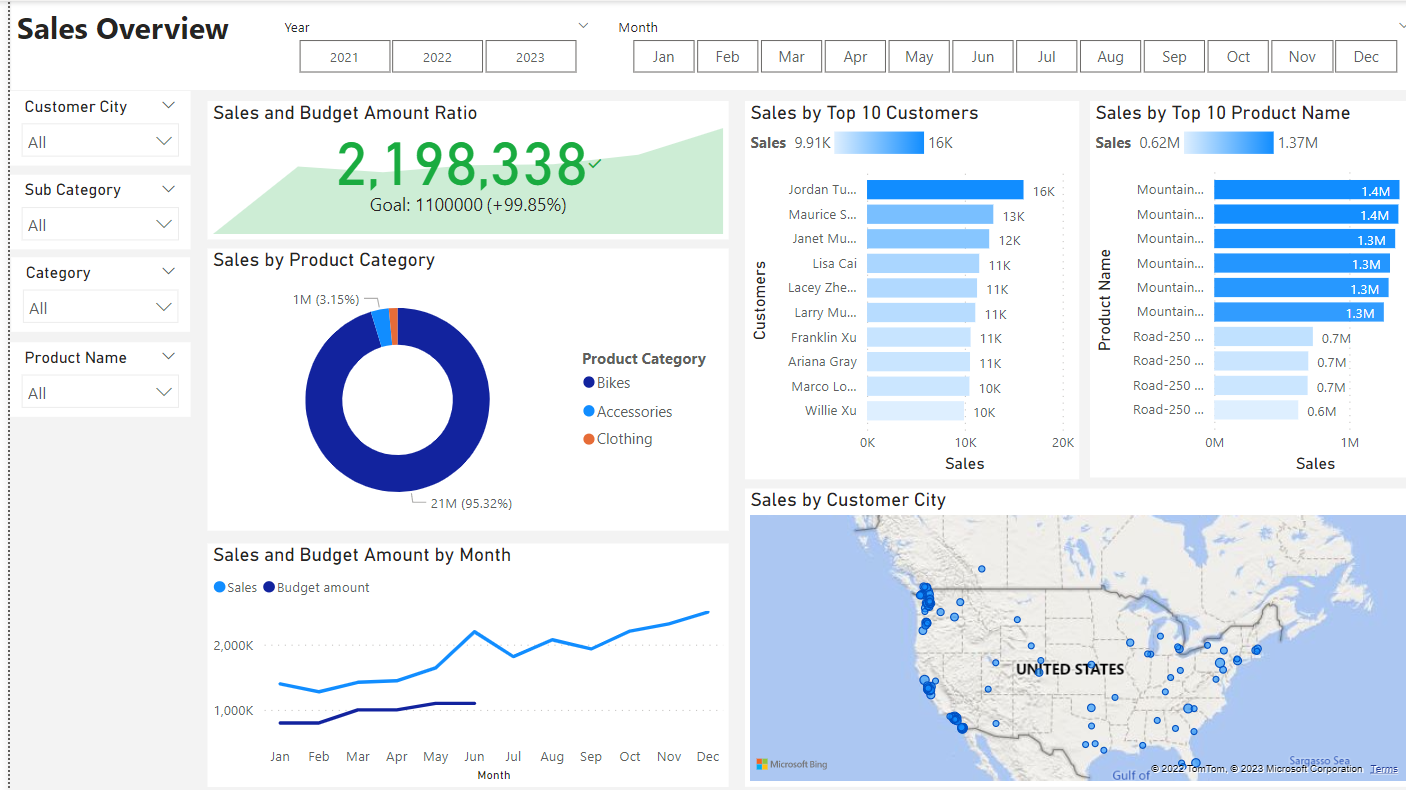

Layout of this report page (visuals, bound fields, positions):
{"tool":"powerbi","page":{"name":"Sales_overview","canvas":[1280,720],"ordinal":0},"visuals":[{"type":"textbox","box":[1.4,0,1278.9,79.6],"z":0},{"type":"slicer","fields":{"Values":["DIM_customer.Customer City"]},"box":[0,79.6,160.4,66.3],"z":1000},{"type":"slicer","fields":{"Values":["DIM_product.Sub Category"]},"box":[0,154.4,160.4,66.3],"z":2000},{"type":"slicer","fields":{"Values":["DIM_product.Product Category"]},"box":[1.2,227.9,159.2,66.3],"z":3000},{"type":"slicer","fields":{"Values":["DIM_product.Product Name"]},"box":[0,303.9,160.4,66.3],"z":4000},{"type":"slicer","fields":{"Values":["DIM_calendar.Year"]},"box":[231.9,9.6,296.4,60.4],"z":5000},{"type":"slicer","fields":{"Values":["DIM_calendar.MonthShort"]},"box":[528.3,9.6,730,60.4],"z":6000},{"type":"kpi","title":"Sales and Budget Amount Ratio","fields":{"Indicator":["Key Measurements.Sales"],"TrendLine":["DIM_calendar.MonthShort"],"Goal":["Key Measurements.Budget amount"]},"box":[176.1,89.2,464.3,123],"z":7000},{"type":"donutChart","fields":{"Category":["DIM_product.Product Category"],"Y":["Key Measurements.Sales"]},"box":[176.1,220.7,464.3,250.9],"z":8000},{"type":"lineChart","title":"Sales and Budget Amount by Month","fields":{"Y":["Key Measurements.Sales","Key Measurements.Budget amount"],"Category":["DIM_calendar.MonthShort"]},"box":[176.1,482.4,464.3,217.1],"z":9000},{"type":"barChart","title":"Sales by Top 10 Customers","fields":{"Y":["Key Measurements.Sales"],"Category":["DIM_customer.Full Name"]},"box":[654.9,89.2,297.9,336.5],"z":10000},{"type":"barChart","title":"Sales by Top 10 Product Name","fields":{"Y":["Key Measurements.Sales"],"Category":["DIM_product.Product Name"]},"box":[961.2,89.2,305.1,335.3],"z":11000},{"type":"map","fields":{"Size":["Key Measurements.Sales"],"Category":["DIM_customer.Customer City"]},"box":[654.9,434.2,611.5,265.3],"z":12000}]}

Visuals, with their boxes in screenshot pixels (x1, y1, x2, y2), scaled from the page's 1280x720 canvas onto the 1406x790 screenshot:
textbox: [left=2, top=0, right=1405, bottom=87]
slicer - DIM_customer.Customer City: [left=0, top=87, right=176, bottom=160]
slicer - DIM_product.Sub Category: [left=0, top=169, right=176, bottom=242]
slicer - DIM_product.Product Category: [left=1, top=250, right=176, bottom=323]
slicer - DIM_product.Product Name: [left=0, top=333, right=176, bottom=406]
slicer - DIM_calendar.Year: [left=255, top=11, right=580, bottom=77]
slicer - DIM_calendar.MonthShort: [left=580, top=11, right=1382, bottom=77]
"Sales and Budget Amount Ratio" kpi: [left=193, top=98, right=703, bottom=233]
donutChart - DIM_product.Product Category x Key Measurements.Sales: [left=193, top=242, right=703, bottom=517]
"Sales and Budget Amount by Month" lineChart: [left=193, top=529, right=703, bottom=768]
"Sales by Top 10 Customers" barChart: [left=719, top=98, right=1047, bottom=467]
"Sales by Top 10 Product Name" barChart: [left=1056, top=98, right=1391, bottom=466]
map - Key Measurements.Sales x DIM_customer.Customer City: [left=719, top=476, right=1391, bottom=768]
